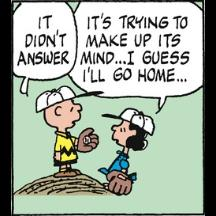charlie: (34, 84, 100, 178)
